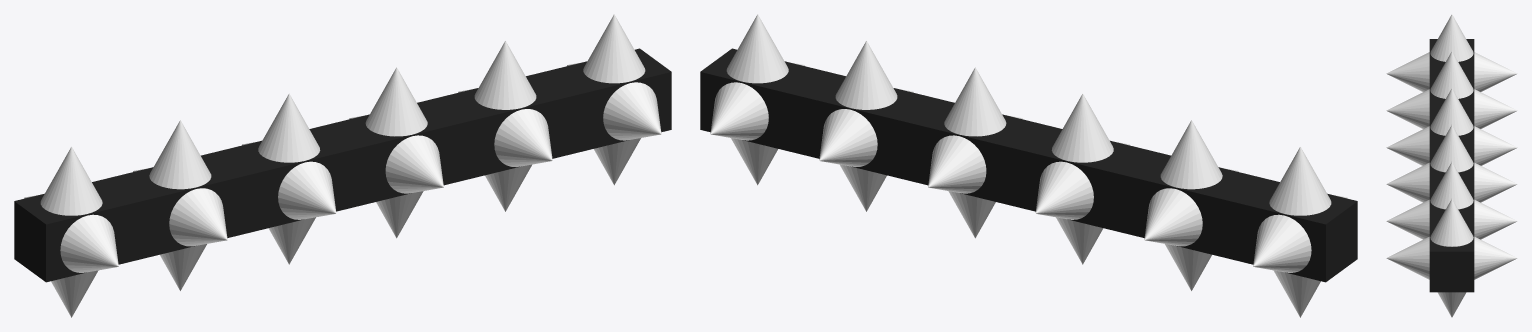
Rendered from rod.fbx.
3 views of the same model, side by side, from view 1: azimuth 30°, elevation 25°; view 2: azimuth 150°, elevation 25°; view 3: azimuth 270°, elevation 25° (orthographic). The views are drawn at different scales.
Visible parts, largest first — view 1: Cone.024; view 2: Cone.024; view 3: Cone.024.
Part boxes in pixels (x1,y1,x2,y2): Cone.024: [14, 14, 671, 317]; Cone.024: [700, 14, 1357, 317]; Cone.024: [1386, 14, 1517, 317].
Bounding box in the file's own units: 226 × 59.23 × 59.23.
Materials: 1 (1 with a texture image).
